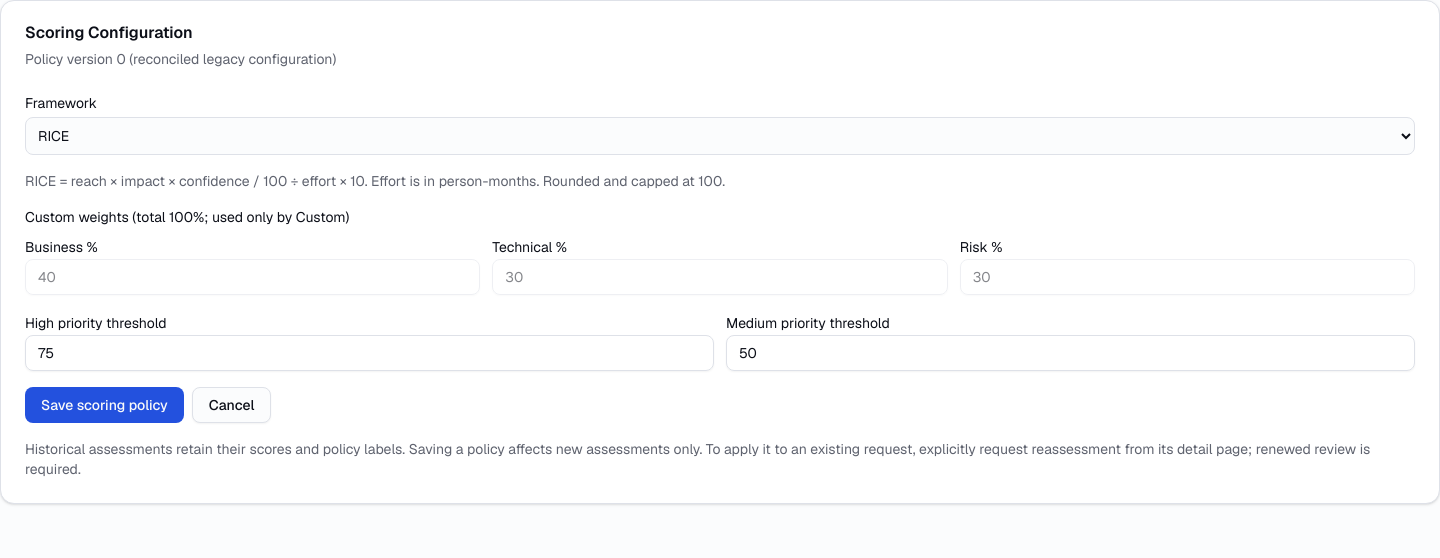
Test: saves a new policy version and explains historical behavior
Select "Custom weighted dimensions" in the dropdown labelled "Framework": (720, 136) [25, 117, 1415, 155]
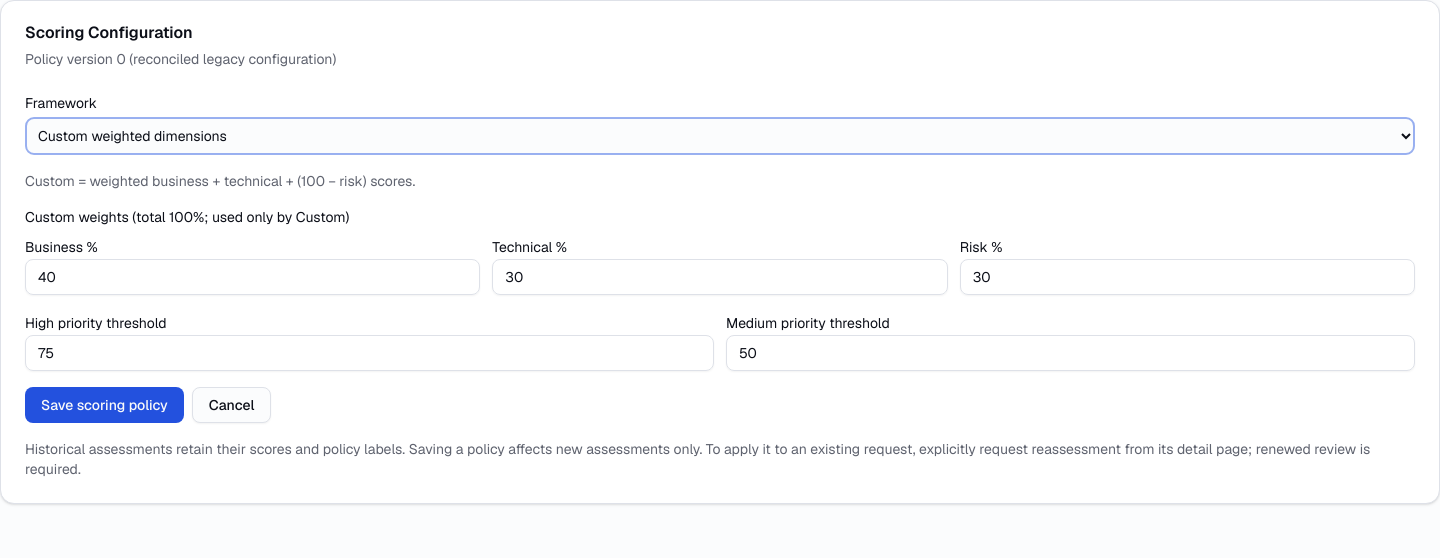
Click the button "Save scoring policy": (104, 405) [25, 387, 184, 423]
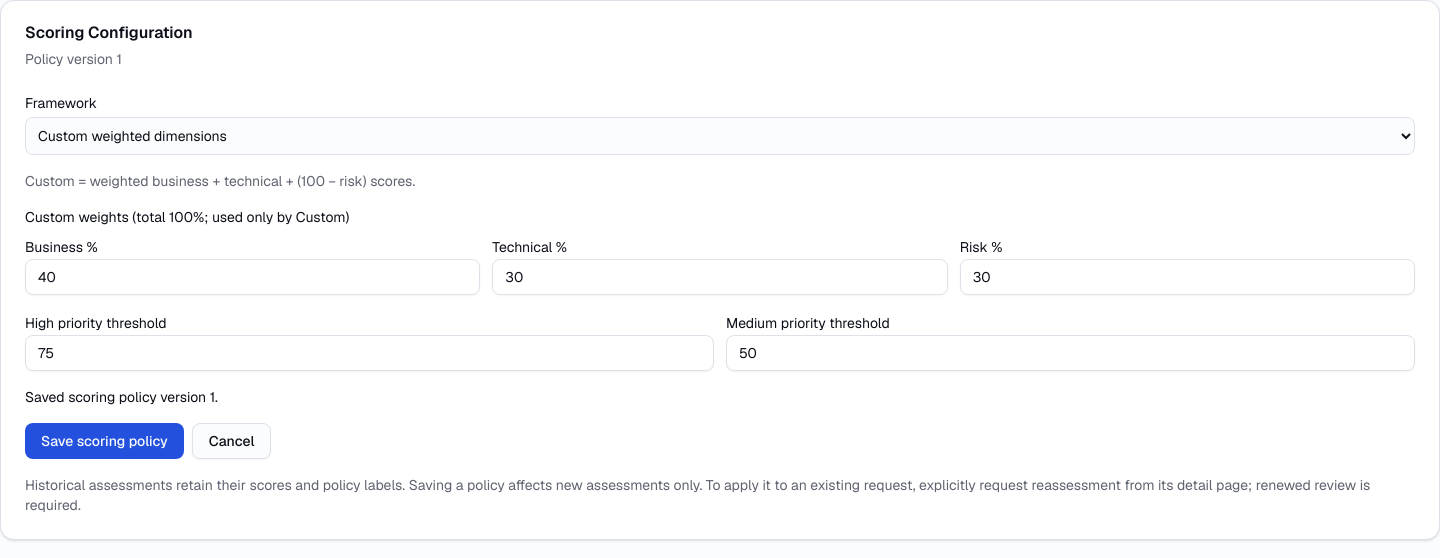
Expected: the text "Historical assessments retain" is shown, [25, 476, 1370, 514]
Now the message shows "version 1", box [25, 388, 218, 406]
